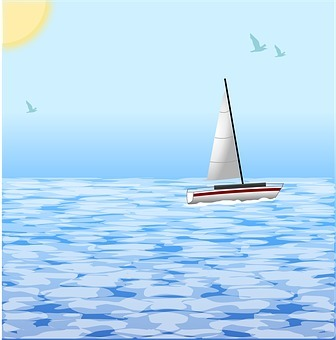bird: (242, 29, 272, 58), (21, 94, 41, 117), (271, 44, 293, 59)
boat: (175, 63, 292, 206)
